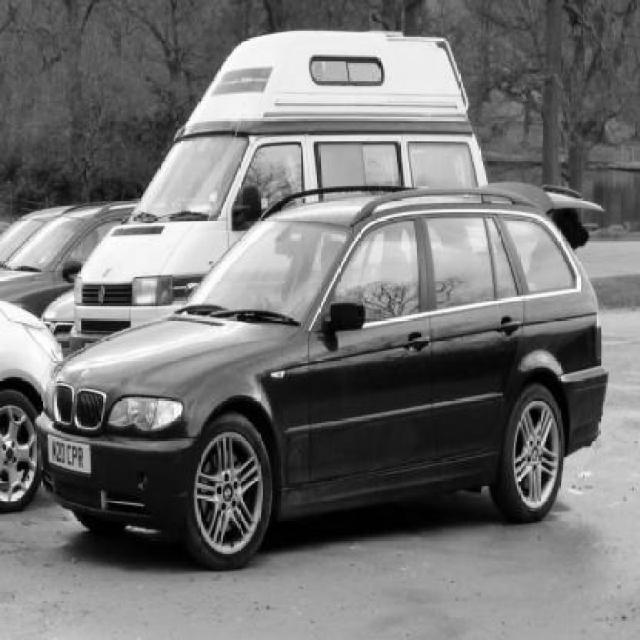car: (37, 194, 611, 594), (55, 35, 491, 354), (0, 204, 145, 290)
license-plate: (37, 436, 103, 482)
